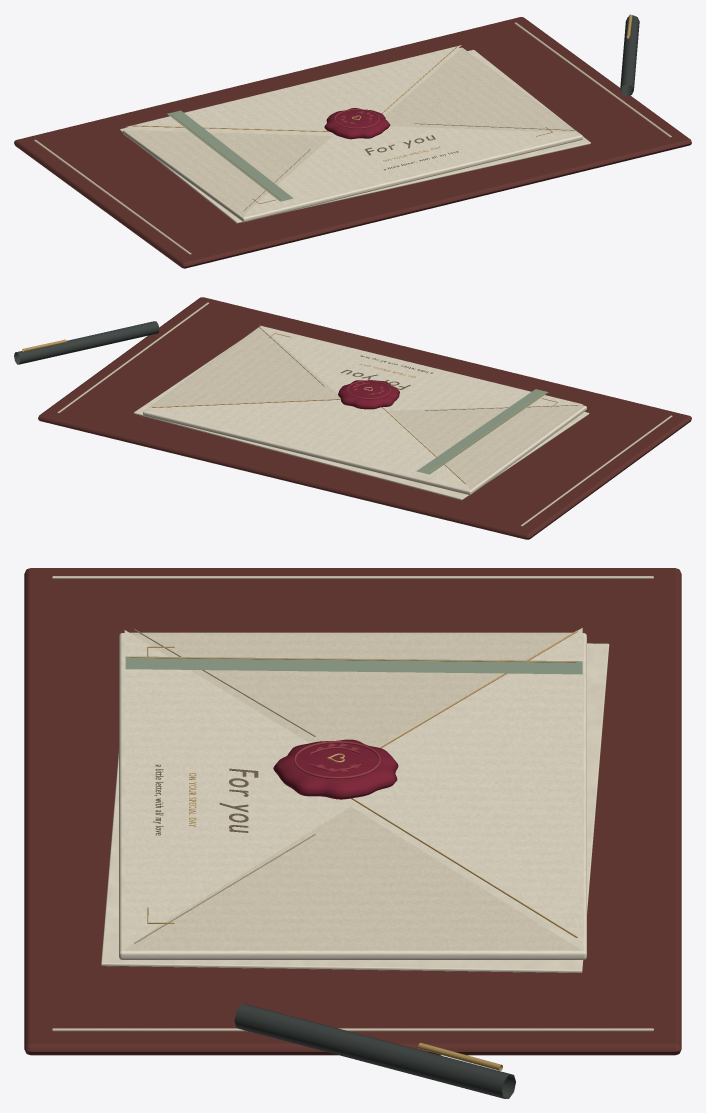
Rendered from letter.glb.
3 views of the same model, one above another, from view 1: azimuth 30°, elevation 25°; view 2: azimuth 150°, elevation 25°; view 3: azimuth 270°, elevation 25° (orthographic). The views are drawn at different scales.
Parts seen in each view (by area): view 1: Detail | Leather writing mat, BirthdayEnvelope_BottomPocket, BirthdayEnvelope_UpperFlap, BirthdayEnvelope_RightFold, BirthdayEnvelope_LeftFold, BirthdayEnvelope_CottonPaper, BirthdayEnvelope_KeepsakeCard, BirthdayEnvelope_SilkRibbon, BirthdayEnvelope_WaxSeal, Detail | Fountain pen, Detail | Mat stitched edge, Detail | Mat stitched edge.001 (+1 smaller); view 2: Detail | Leather writing mat, BirthdayEnvelope_UpperFlap, BirthdayEnvelope_BottomPocket, BirthdayEnvelope_RightFold, BirthdayEnvelope_LeftFold, BirthdayEnvelope_CottonPaper, BirthdayEnvelope_KeepsakeCard, Detail | Fountain pen, BirthdayEnvelope_SilkRibbon, BirthdayEnvelope_WaxSeal, Detail | Mat stitched edge, Detail | Mat stitched edge.001 (+1 smaller); view 3: Detail | Leather writing mat, BirthdayEnvelope_UpperFlap, BirthdayEnvelope_BottomPocket, BirthdayEnvelope_RightFold, BirthdayEnvelope_LeftFold, BirthdayEnvelope_KeepsakeCard, BirthdayEnvelope_CottonPaper, Detail | Fountain pen, BirthdayEnvelope_SilkRibbon, BirthdayEnvelope_WaxSeal, Detail | Mat stitched edge.001, Detail | Mat stitched edge (+1 smaller).
Part boxes in pixels (x1,y1,x2,y2): Detail | Leather writing mat: [14, 17, 691, 268]; BirthdayEnvelope_BottomPocket: [244, 126, 579, 214]; BirthdayEnvelope_UpperFlap: [125, 45, 461, 133]; BirthdayEnvelope_RightFold: [384, 48, 579, 134]; BirthdayEnvelope_LeftFold: [125, 130, 332, 216]; BirthdayEnvelope_CottonPaper: [123, 47, 582, 222]; BirthdayEnvelope_KeepsakeCard: [120, 49, 590, 223]; BirthdayEnvelope_SilkRibbon: [167, 110, 293, 201]; BirthdayEnvelope_WaxSeal: [324, 108, 390, 139]; Detail | Fountain pen: [620, 15, 639, 96]; Detail | Mat stitched edge: [34, 139, 191, 254]; Detail | Mat stitched edge.001: [514, 22, 671, 137]; Detail | Leather writing mat: [38, 297, 691, 539]; BirthdayEnvelope_UpperFlap: [146, 399, 469, 487]; BirthdayEnvelope_BottomPocket: [260, 325, 583, 410]; BirthdayEnvelope_RightFold: [145, 327, 340, 410]; BirthdayEnvelope_LeftFold: [388, 406, 583, 489]; BirthdayEnvelope_CottonPaper: [143, 326, 586, 495]; BirthdayEnvelope_KeepsakeCard: [133, 340, 589, 500]; Detail | Fountain pen: [14, 321, 159, 364]; BirthdayEnvelope_SilkRibbon: [416, 389, 548, 474]; BirthdayEnvelope_WaxSeal: [338, 380, 399, 409]; Detail | Mat stitched edge: [520, 415, 672, 526]; Detail | Mat stitched edge.001: [57, 302, 209, 413]; Detail | Leather writing mat: [24, 568, 681, 1055]; BirthdayEnvelope_UpperFlap: [343, 628, 582, 944]; BirthdayEnvelope_BottomPocket: [124, 630, 352, 946]; BirthdayEnvelope_RightFold: [125, 806, 580, 950]; BirthdayEnvelope_LeftFold: [130, 632, 572, 747]; BirthdayEnvelope_KeepsakeCard: [101, 643, 609, 972]; BirthdayEnvelope_CottonPaper: [119, 633, 586, 959]; Detail | Fountain pen: [234, 1004, 515, 1098]; BirthdayEnvelope_SilkRibbon: [125, 656, 582, 674]; BirthdayEnvelope_WaxSeal: [273, 739, 398, 799]; Detail | Mat stitched edge.001: [52, 1028, 653, 1031]; Detail | Mat stitched edge: [52, 576, 653, 578].
Size of the model in its own units: 1.16 by 0.06 by 0.59.
12 materials, 3 textured.
